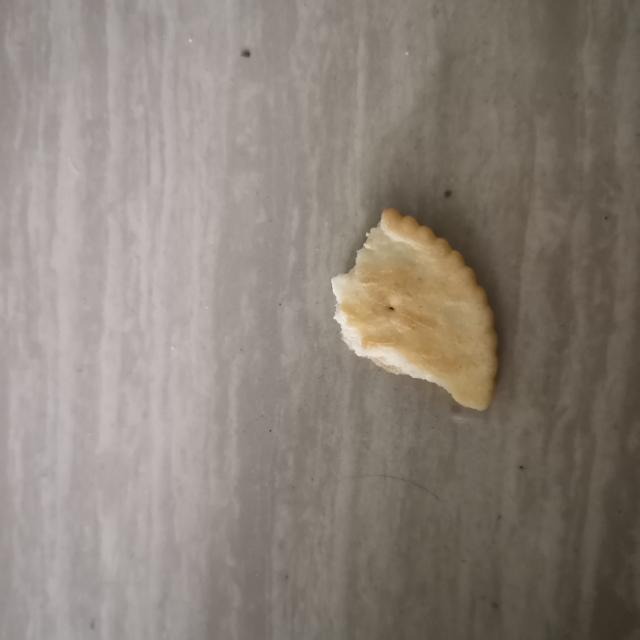Broken: (330, 206, 498, 411)
